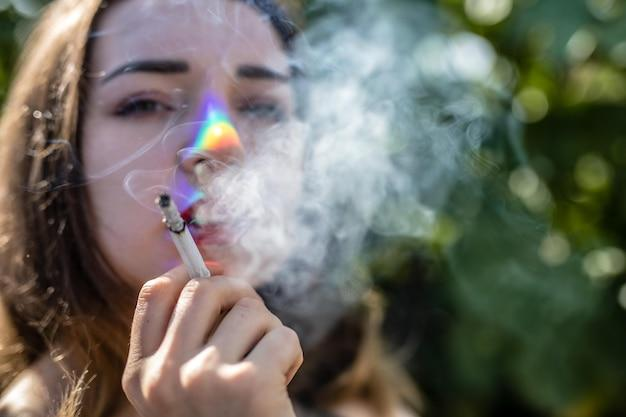cigarette: (157, 193, 210, 277)
